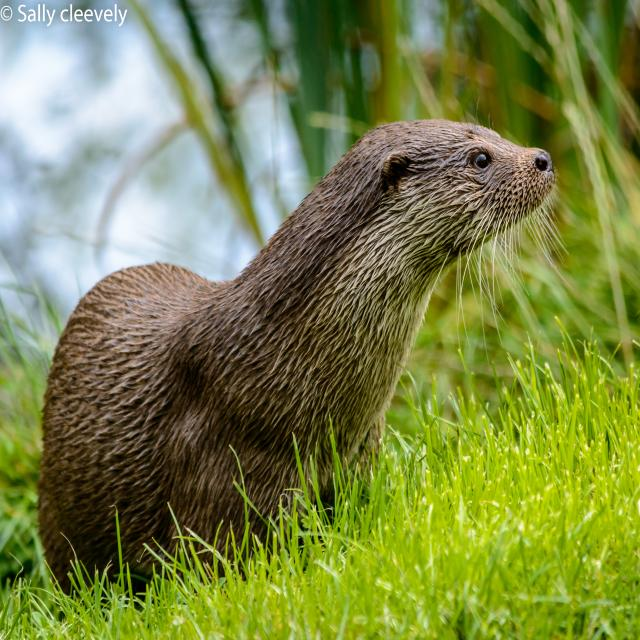otter: (43, 122, 555, 573)
